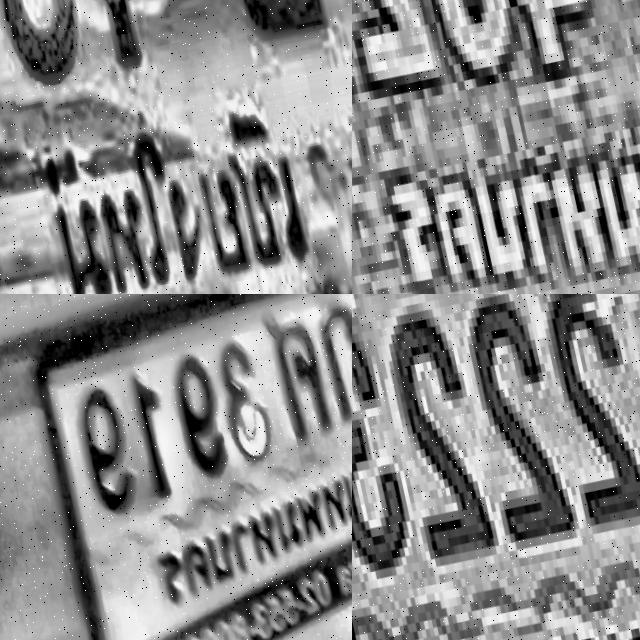license-plate: (45, 294, 352, 640), (0, 0, 352, 294), (352, 294, 640, 640), (352, 0, 640, 294)
